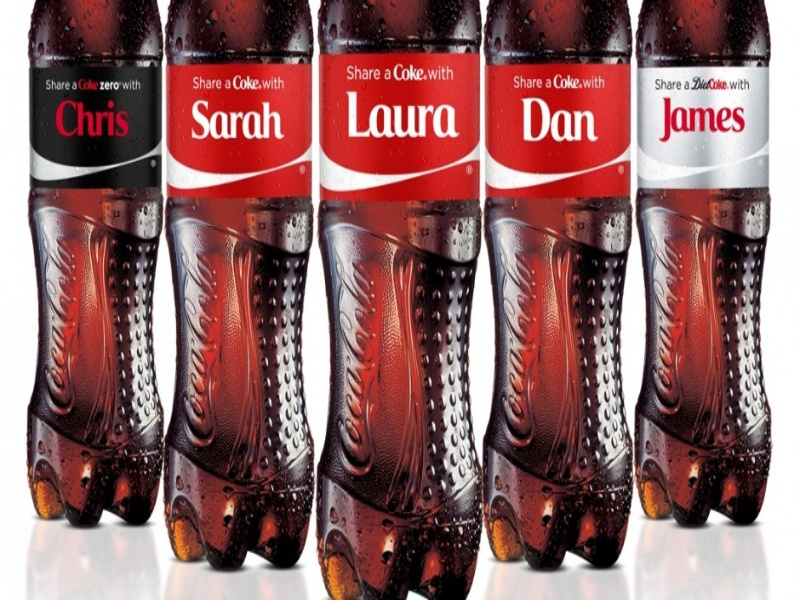Plastic bottle: (284, 5, 511, 600), (458, 12, 640, 554), (618, 16, 800, 547), (152, 13, 323, 568), (13, 13, 186, 542)
